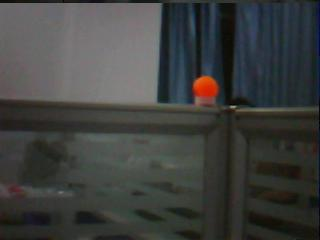oball: (193, 74, 218, 97)
